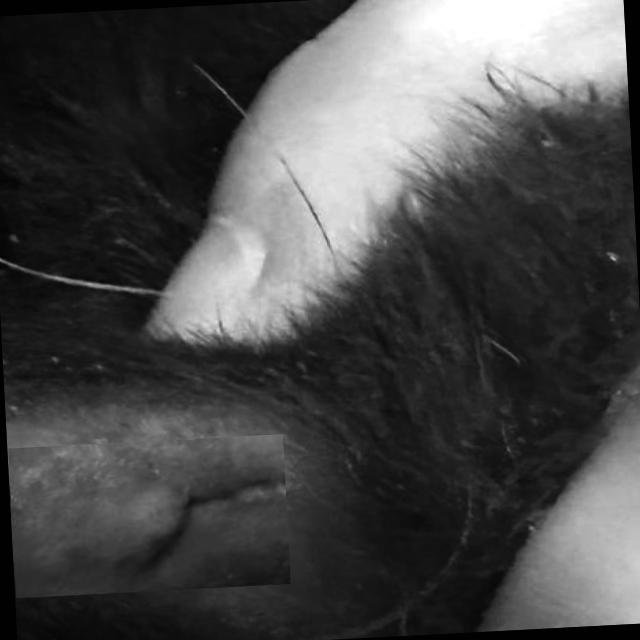fem: (9, 435, 290, 597)
